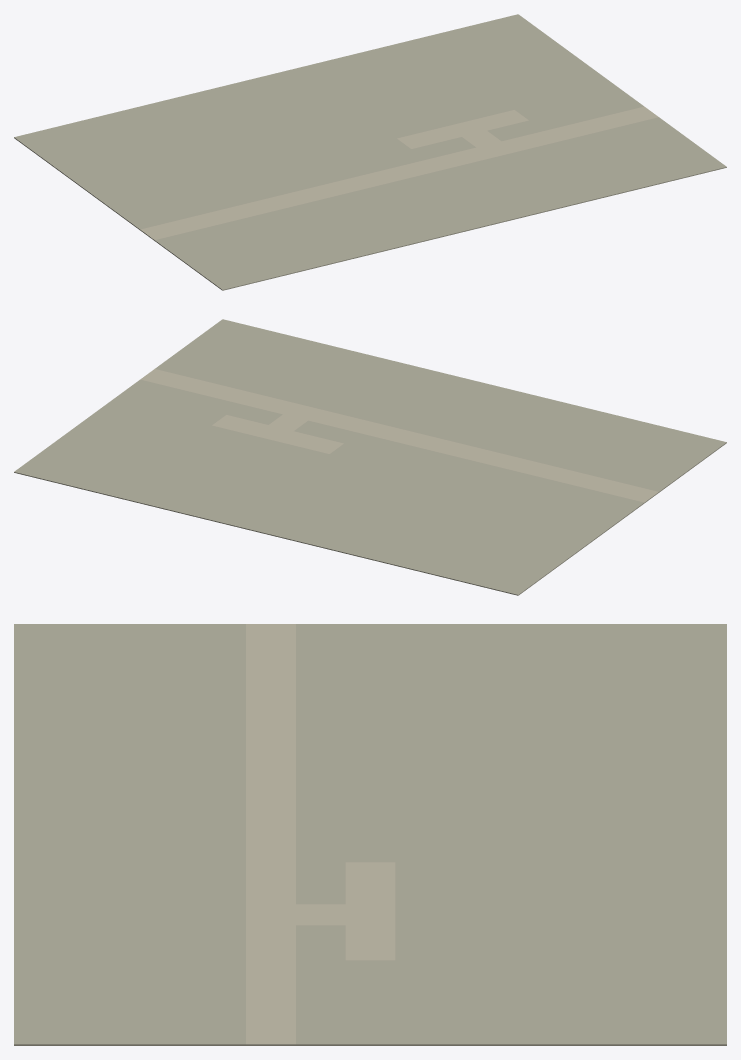
3 views of the same model, one above another, from view 1: azimuth 30°, elevation 25°; view 2: azimuth 150°, elevation 25°; view 3: azimuth 270°, elevation 25° (orthographic). The views are drawn at different scales.
Visible parts, largest first — view 1: D08_shared_terrain; view 2: D08_shared_terrain; view 3: D08_shared_terrain.
Boxes of the visible parts, x1,y1,x2,y2 form: D08_shared_terrain: (14, 14, 726, 290); D08_shared_terrain: (14, 319, 726, 595); D08_shared_terrain: (14, 624, 726, 1045).
Size of the model in its own units: 120 by 0.2 by 86.
